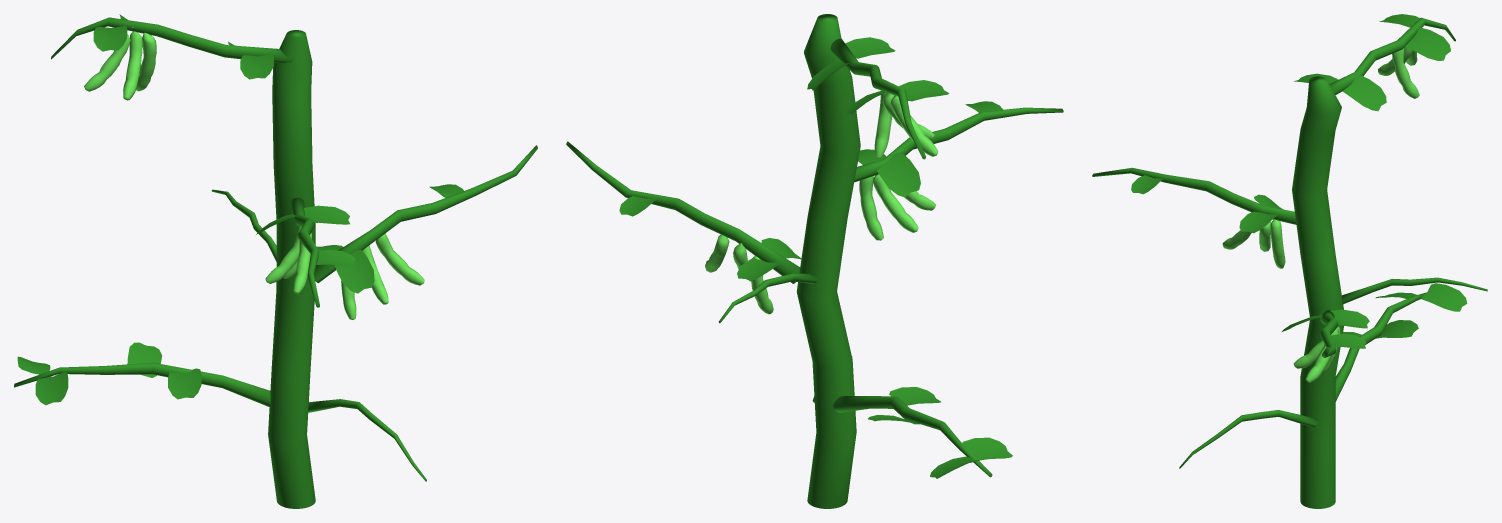
The model's file is SoyBean.fbx.
The picture shows the model from 3 angles, left to right: view 1: azimuth 30°, elevation 25°; view 2: azimuth 150°, elevation 25°; view 3: azimuth 270°, elevation 25°; orthographic projection. The views are drawn at different scales.
Visible parts, largest first — view 1: Cylinder, Cylinder.020, Cylinder.001, Cylinder.014, Cylinder.009, Plane.013, Cylinder.031, Cube.005, Plane, Plane.002, Cube.008, Cube.004 (+8 smaller); view 2: Cylinder, Cylinder.001, Cylinder.020, Cylinder.009, Cylinder.014, Plane.011, Cube.001, Cube, Plane, Cylinder.026, Plane.006, Plane.004 (+4 smaller); view 3: Cylinder, Cylinder.009, Cylinder.014, Cylinder.020, Cylinder.031, Plane.005, Plane.007, Cylinder.026, Plane.001, Cube.004, Cylinder.001, Cube.001 (+3 smaller).
Part boxes in pixels (left/top/right/bottom): Cylinder: left=268, top=30, right=315, bottom=508; Cylinder.020: left=14, top=362, right=270, bottom=406; Cylinder.001: left=315, top=145, right=537, bottom=283; Cylinder.014: left=51, top=17, right=295, bottom=63; Cylinder.009: left=289, top=198, right=319, bottom=307; Plane.013: left=335, top=249, right=374, bottom=293; Cylinder.031: left=308, top=399, right=426, bottom=481; Cube.005: left=123, top=27, right=142, bottom=100; Plane: left=35, top=372, right=68, bottom=405; Plane.002: left=168, top=368, right=201, bottom=399; Cube.008: left=375, top=233, right=424, bottom=285; Cube.004: left=136, top=33, right=156, bottom=91; Cylinder: left=796, top=14, right=860, bottom=508; Cylinder.001: left=566, top=141, right=799, bottom=283; Cylinder.020: left=833, top=396, right=992, bottom=477; Cylinder.009: left=854, top=107, right=1063, bottom=182; Cylinder.014: left=830, top=38, right=925, bottom=159; Plane.011: left=876, top=152, right=920, bottom=197; Cube.001: left=859, top=176, right=883, bottom=240; Cube: left=873, top=174, right=918, bottom=232; Plane: left=962, top=437, right=1012, bottom=460; Cylinder.026: left=718, top=273, right=817, bottom=323; Plane.006: left=845, top=37, right=895, bottom=58; Plane.004: left=899, top=80, right=949, bottom=101; Cylinder: left=1292, top=76, right=1343, bottom=508; Cylinder.009: left=1092, top=167, right=1296, bottom=224; Cylinder.014: left=1329, top=17, right=1455, bottom=94; Cylinder.020: left=1335, top=292, right=1426, bottom=401; Cylinder.031: left=1179, top=410, right=1318, bottom=468; Plane.005: left=1405, top=27, right=1450, bottom=60; Plane.007: left=1342, top=74, right=1386, bottom=111; Cylinder.026: left=1342, top=277, right=1487, bottom=304; Plane.001: left=1421, top=283, right=1467, bottom=311; Cube.004: left=1392, top=48, right=1419, bottom=98; Cylinder.001: left=1320, top=309, right=1338, bottom=357; Cube.001: left=1270, top=219, right=1285, bottom=268.
Size of the model in its own units: 897 by 866 by 728.
